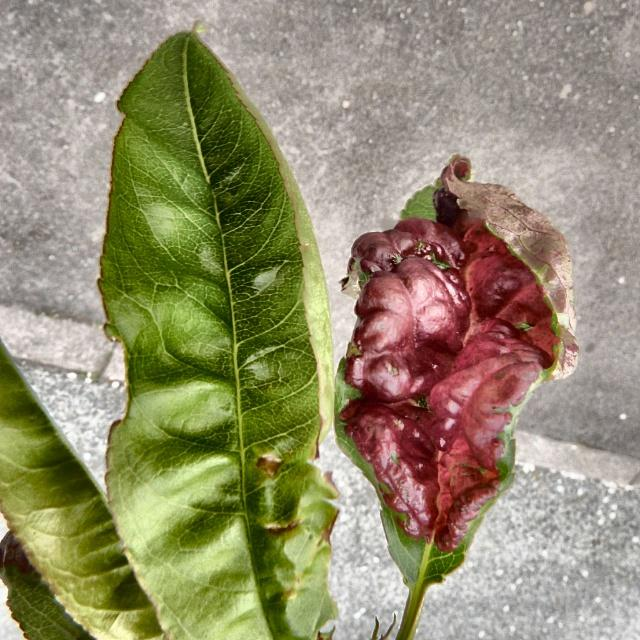leaf_curl: (306, 164, 586, 638)
